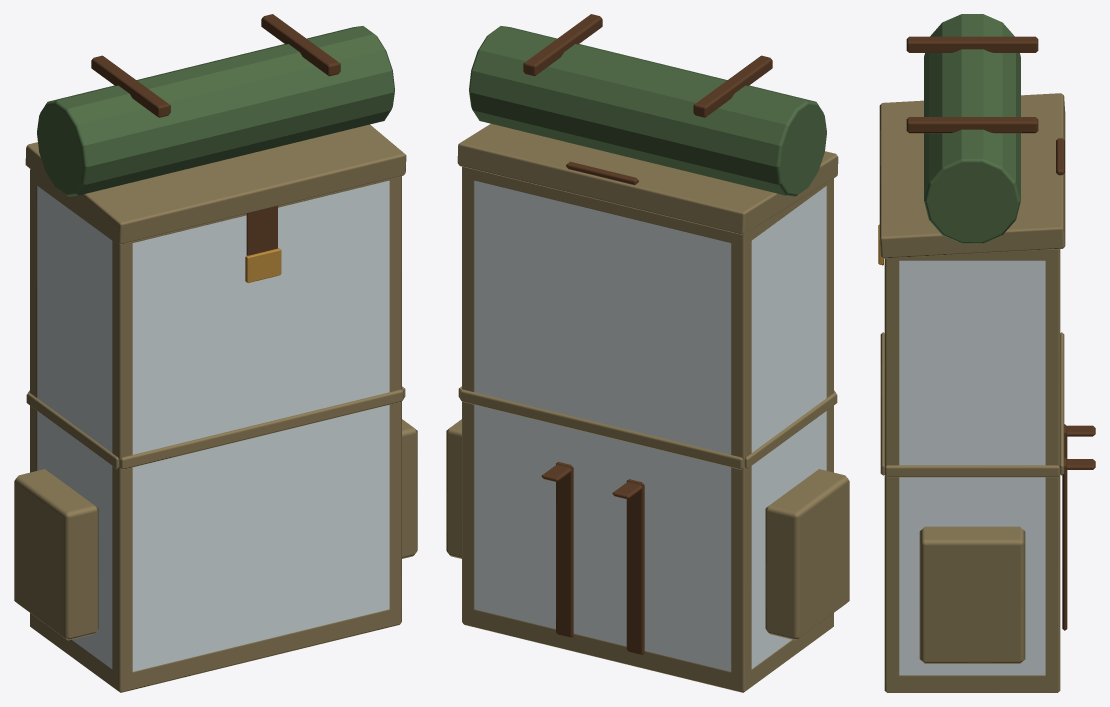
Rendered from Backsack2.glb.
The picture shows the model from 3 angles, left to right: view 1: azimuth 30°, elevation 25°; view 2: azimuth 150°, elevation 25°; view 3: azimuth 270°, elevation 25°; orthographic projection. The views are drawn at different scales.
Visible parts, largest first — view 1: Backsack2.001; view 2: Backsack2.001; view 3: Backsack2.001.
Part boxes in pixels (left/top/right/bottom): Backsack2.001: left=14, top=14, right=417, bottom=692; Backsack2.001: left=446, top=14, right=849, bottom=692; Backsack2.001: left=878, top=14, right=1095, bottom=692.
Bounding box in the file's own units: 0.9 × 1.38 × 0.494.
